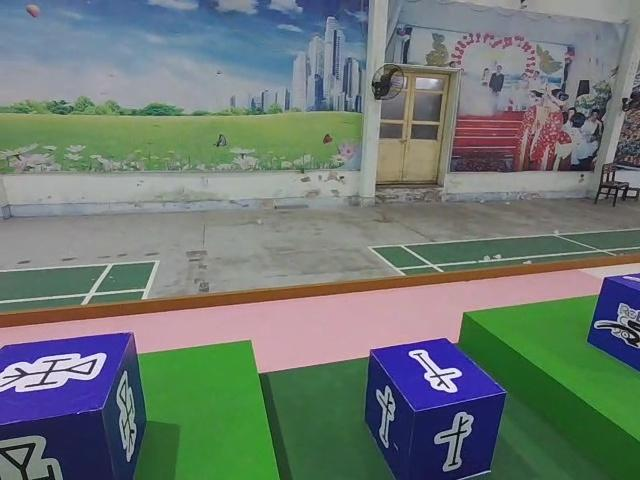R1 Blue: (588, 273, 640, 383)
R2 Real Blue: (0, 333, 145, 480), (363, 339, 505, 480)
